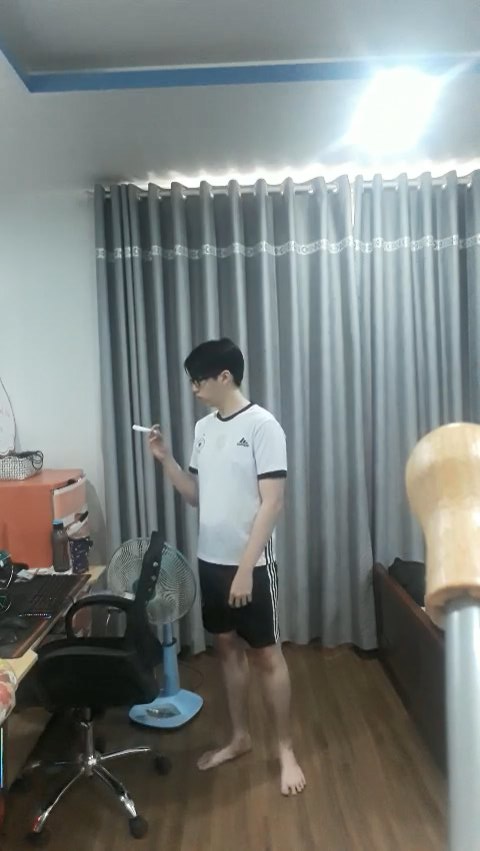cigarette: (132, 421, 156, 435)
person: (158, 341, 326, 807)
